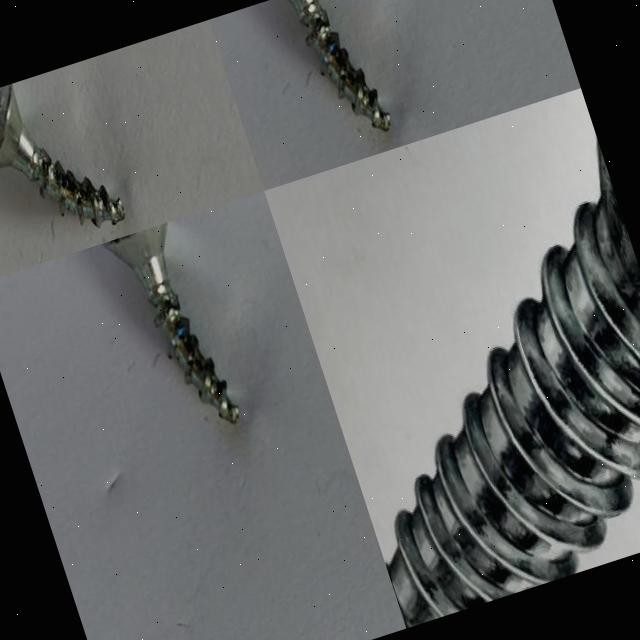Screw: (386, 143, 640, 628), (103, 222, 239, 424), (0, 84, 125, 228), (288, 0, 391, 132)
